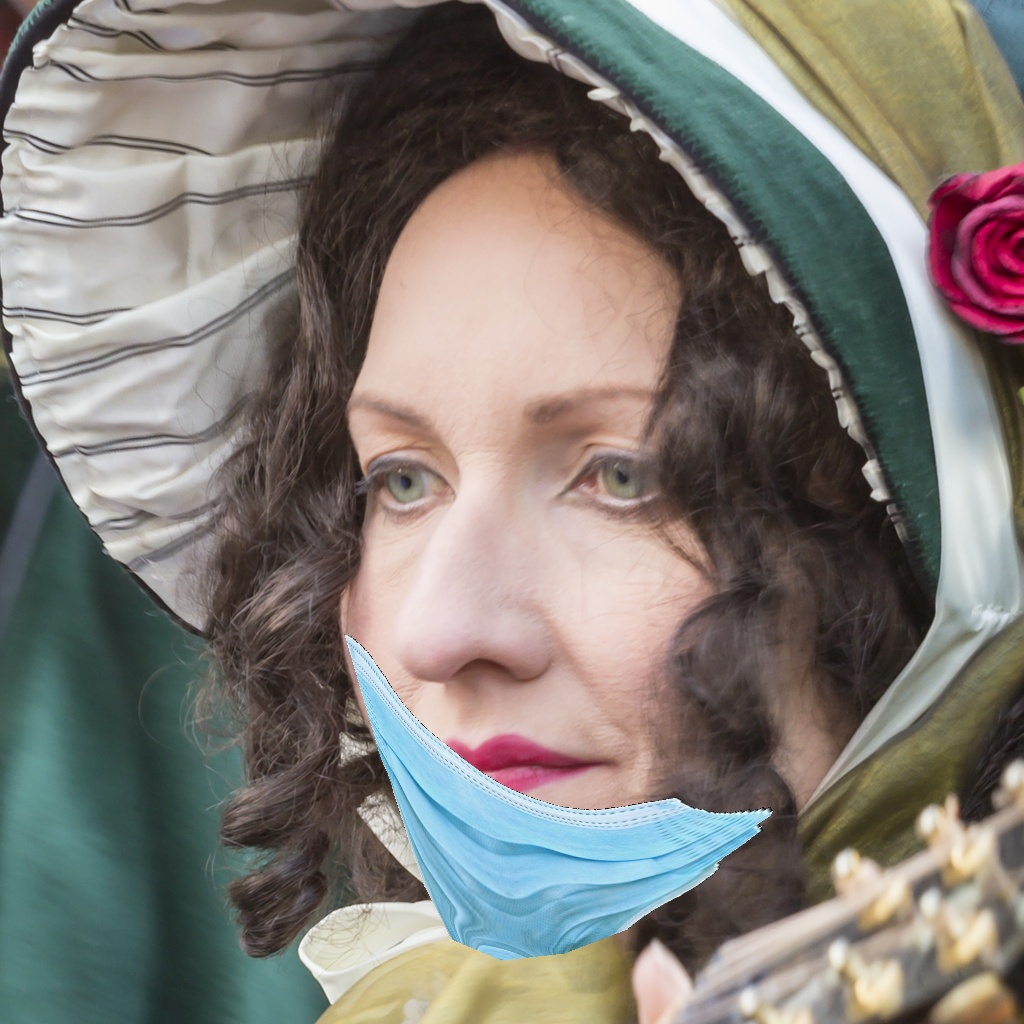mascarilla_mal_puesta: (308, 450, 853, 968)
